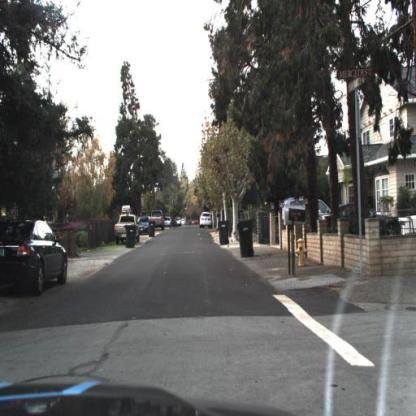car: (1, 218, 76, 296), (316, 199, 404, 239), (265, 192, 318, 224), (109, 211, 138, 248), (135, 213, 151, 240), (138, 212, 154, 237), (197, 208, 213, 231), (149, 209, 163, 233)
